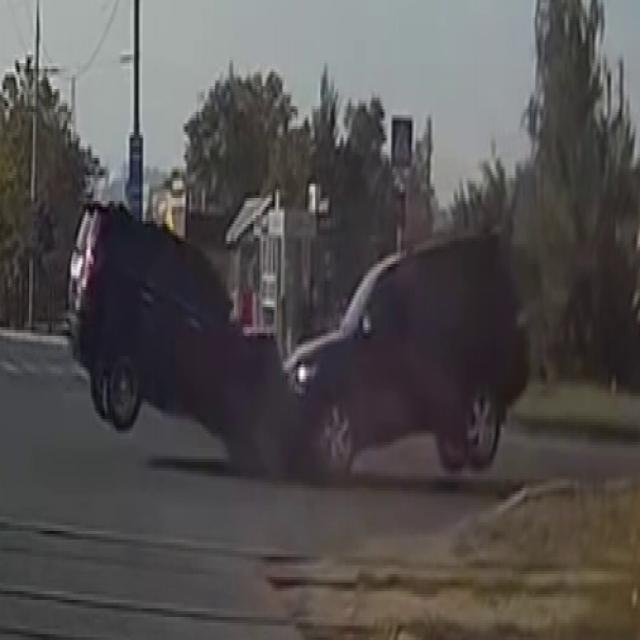accident: (141, 195, 478, 483)
